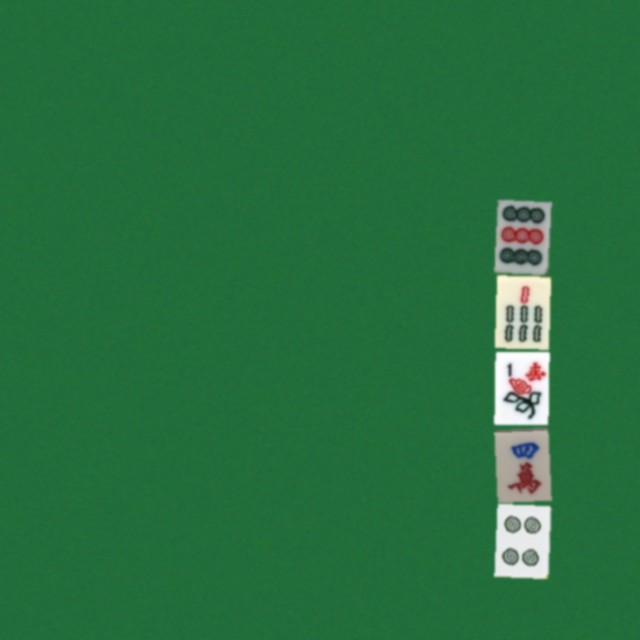tile: (494, 199, 548, 272), (494, 275, 548, 348), (494, 351, 548, 424), (494, 427, 548, 500), (494, 503, 548, 576)
